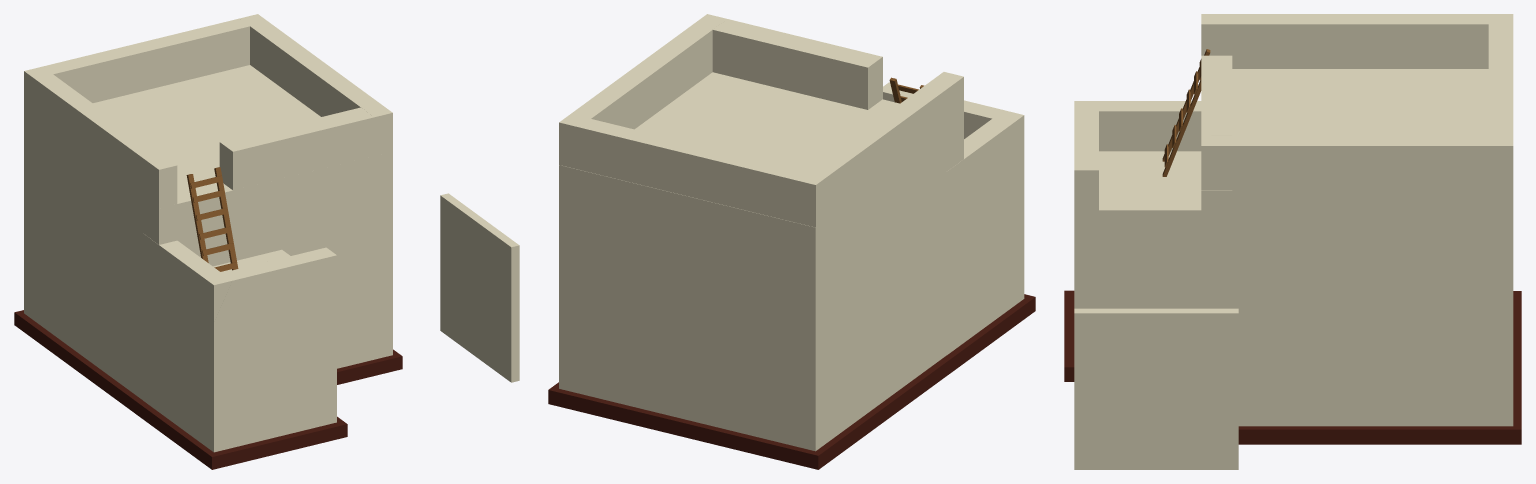
The model's file is house.fbx.
The picture shows the model from 3 angles, left to right: view 1: azimuth 30°, elevation 25°; view 2: azimuth 150°, elevation 25°; view 3: azimuth 270°, elevation 25°; orthographic projection. The views are drawn at different scales.
Visible parts, largest first — view 1: Cube, Cube.009, Cube.005, Cube.002, Cube.004, Cube.003, Cube.001, Cube.006; view 2: Cube, Cube.009, Cube.005, Cube.001, Cube.004, Cube.003; view 3: Cube, Cube.009, Cube.002, Cube.005, Cube.004, Cube.001, Cube.006, Cube.003.
Boxes of the visible parts, bbox=[...] form: Cube: bbox=[24, 65, 392, 399]; Cube.009: bbox=[24, 14, 392, 208]; Cube.005: bbox=[143, 249, 336, 452]; Cube.002: bbox=[440, 193, 519, 382]; Cube.004: bbox=[143, 233, 336, 323]; Cube.003: bbox=[134, 400, 347, 469]; Cube.001: bbox=[14, 310, 402, 416]; Cube.006: bbox=[186, 167, 238, 271]; Cube: bbox=[559, 72, 963, 451]; Cube.009: bbox=[559, 14, 963, 227]; Cube.005: bbox=[946, 158, 1024, 355]; Cube.001: bbox=[548, 340, 973, 469]; Cube.004: bbox=[883, 82, 1024, 214]; Cube.003: bbox=[950, 294, 1035, 373]; Cube: bbox=[1201, 69, 1513, 426]; Cube.009: bbox=[1201, 14, 1513, 190]; Cube.002: bbox=[1074, 308, 1238, 469]; Cube.005: bbox=[1074, 151, 1201, 308]; Cube.004: bbox=[1074, 101, 1201, 214]; Cube.001: bbox=[1238, 291, 1521, 444]; Cube.006: bbox=[1162, 49, 1210, 176]; Cube.003: bbox=[1064, 290, 1074, 381].
Bounding box in the file's own units: 253 × 198 × 278.
